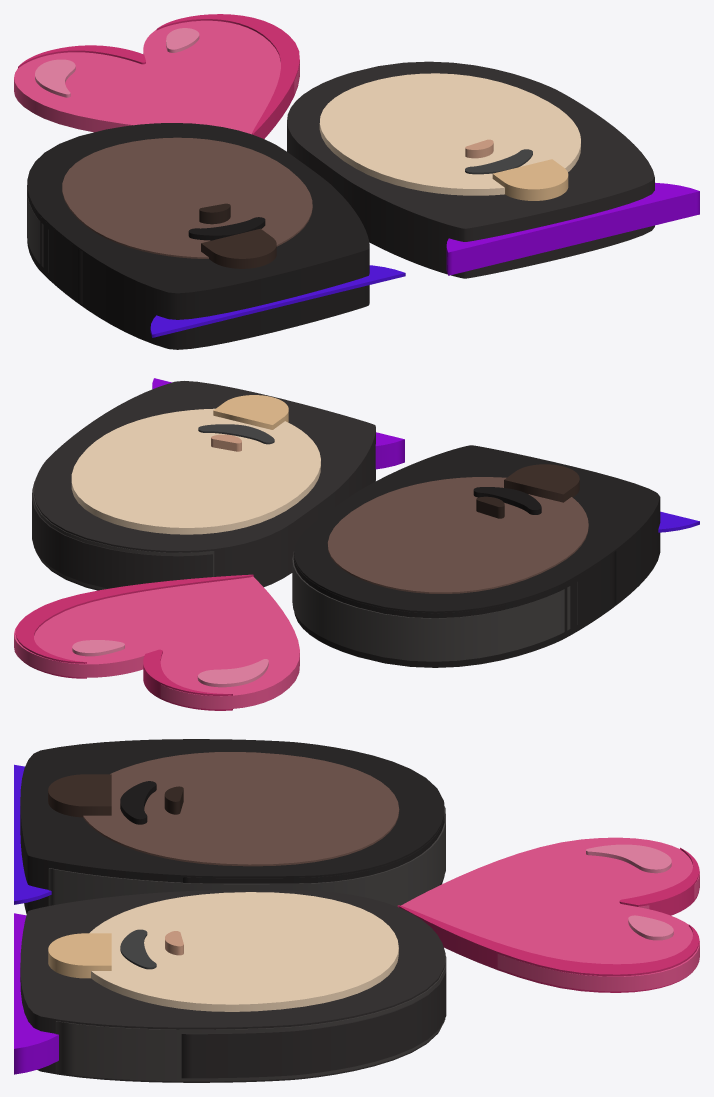
The model's file is emoji_u1f469_1f3ff_200d_2764_200d_1f469_1f3fb.glb.
The picture shows the model from 3 angles, top to bottom: view 1: azimuth 30°, elevation 25°; view 2: azimuth 150°, elevation 25°; view 3: azimuth 270°, elevation 25°; orthographic projection. The views are drawn at different scales.
Parts seen in each view (by area): view 1: emoji_u1f469_1f3ff_200d_2764_200d_1f469_1f3fb; view 2: emoji_u1f469_1f3ff_200d_2764_200d_1f469_1f3fb; view 3: emoji_u1f469_1f3ff_200d_2764_200d_1f469_1f3fb.
Part boxes in pixels (x1=…): emoji_u1f469_1f3ff_200d_2764_200d_1f469_1f3fb: x1=14, y1=14, x2=699, y2=349; emoji_u1f469_1f3ff_200d_2764_200d_1f469_1f3fb: x1=14, y1=378, x2=699, y2=710; emoji_u1f469_1f3ff_200d_2764_200d_1f469_1f3fb: x1=14, y1=739, x2=699, y2=1082.
Size of the model in its own units: 0.0345 by 0.005 by 0.0338.
